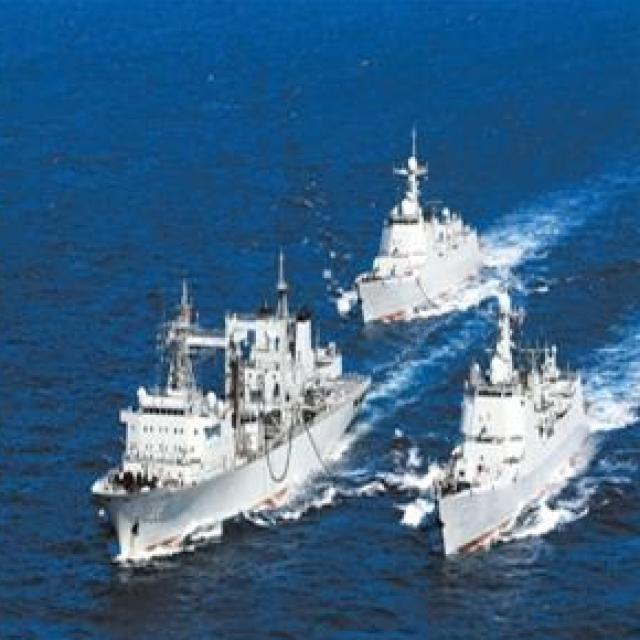navalvessels: (89, 296, 369, 558), (423, 284, 598, 548), (350, 143, 482, 320)
